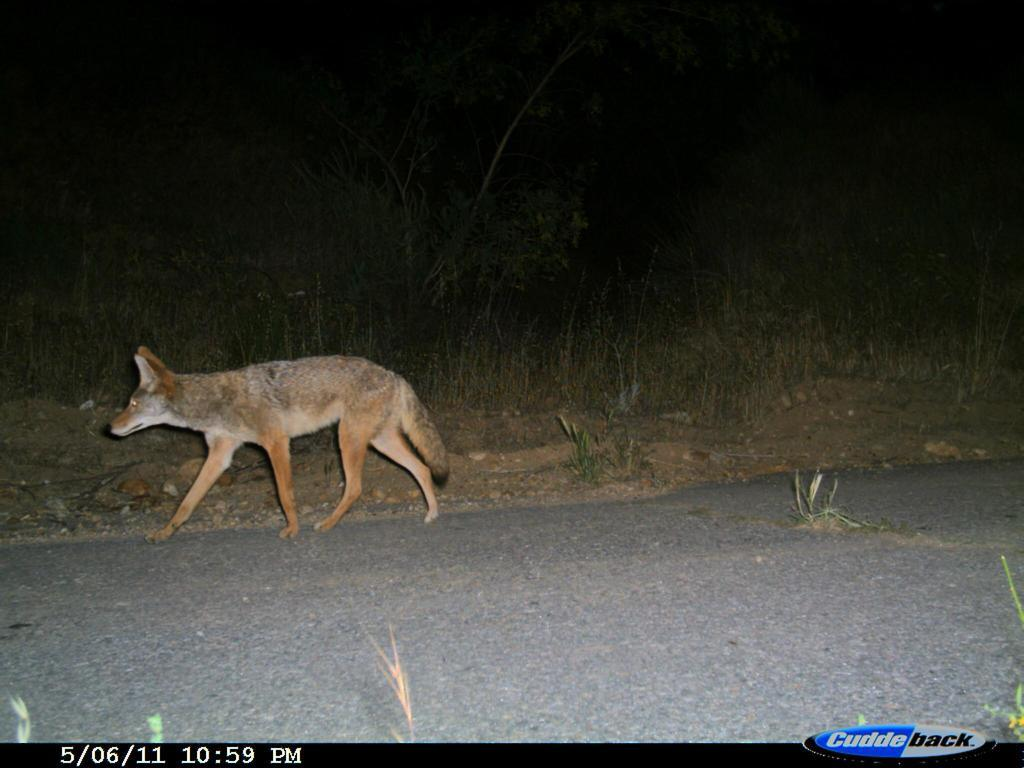coyote: (99, 336, 463, 553)
